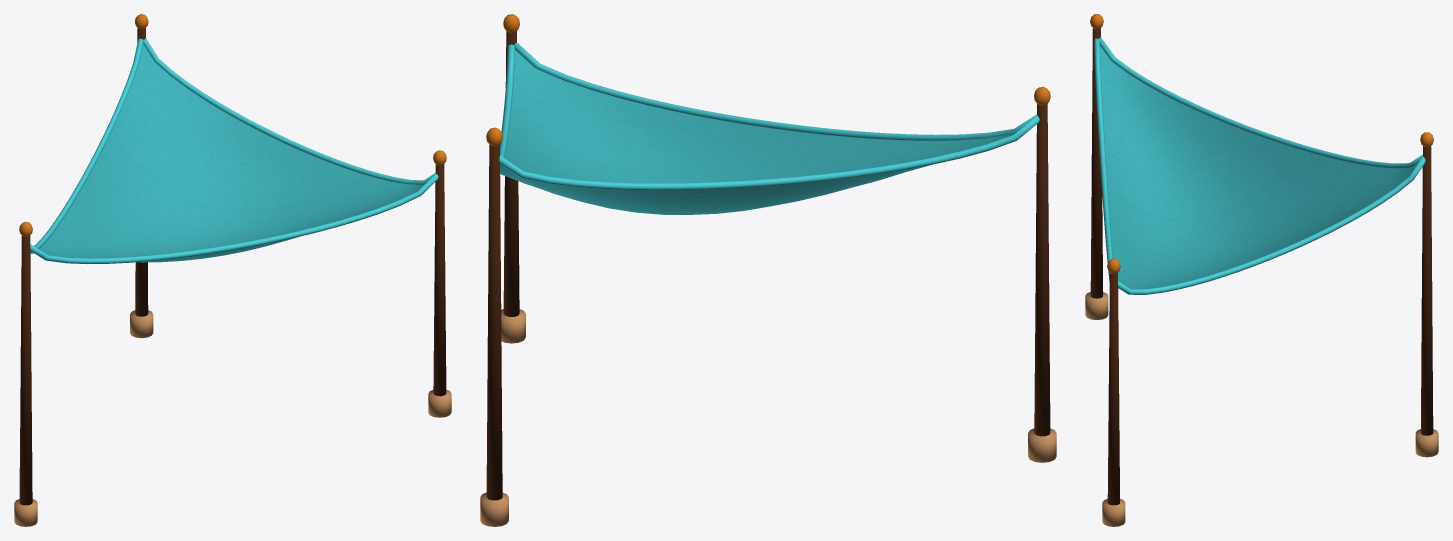
The model's file is market-canopy.glb.
3 renders of one model, left to right at view 1: azimuth 30°, elevation 25°; view 2: azimuth 150°, elevation 25°; view 3: azimuth 270°, elevation 25°, orthographic. The views are drawn at different scales.
Parts seen in each view (by area): view 1: market-canopy; view 2: market-canopy; view 3: market-canopy.
Part boxes in pixels (<box>): market-canopy: <box>14,14,451,526</box>; market-canopy: <box>480,14,1056,526</box>; market-canopy: <box>1085,14,1438,526</box>.
Size of the model in its own units: 4.5 by 3.1 by 3.1.
